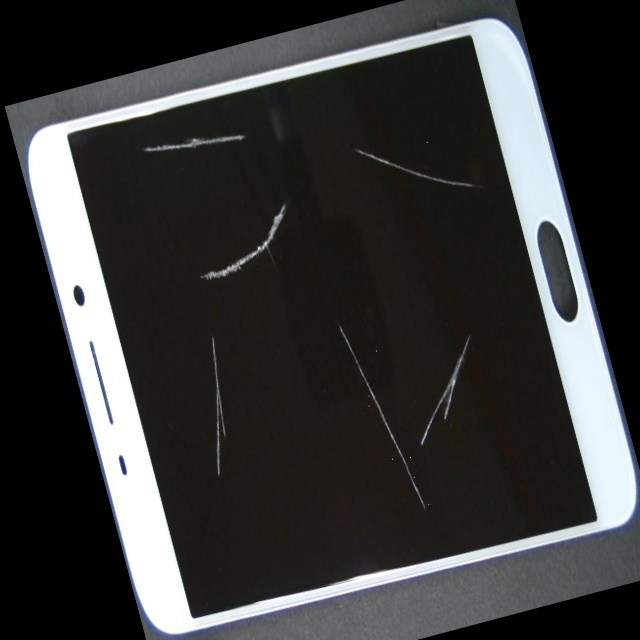scratch: (117, 28, 542, 609), (104, 0, 571, 319), (100, 165, 291, 423)
